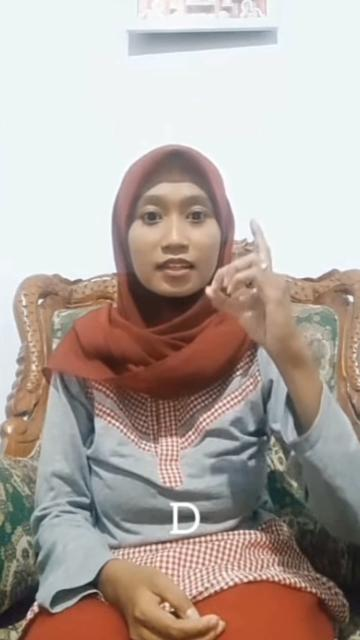D: (200, 217, 301, 357)
